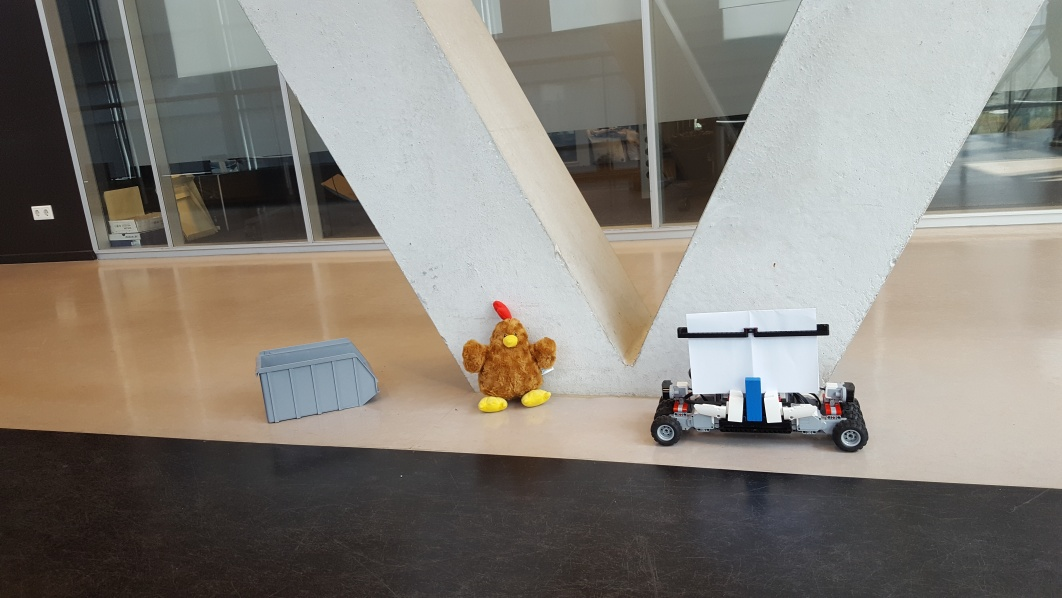beam: (742, 374, 767, 425)
chicken: (460, 302, 557, 412)
tray: (255, 339, 380, 423)
